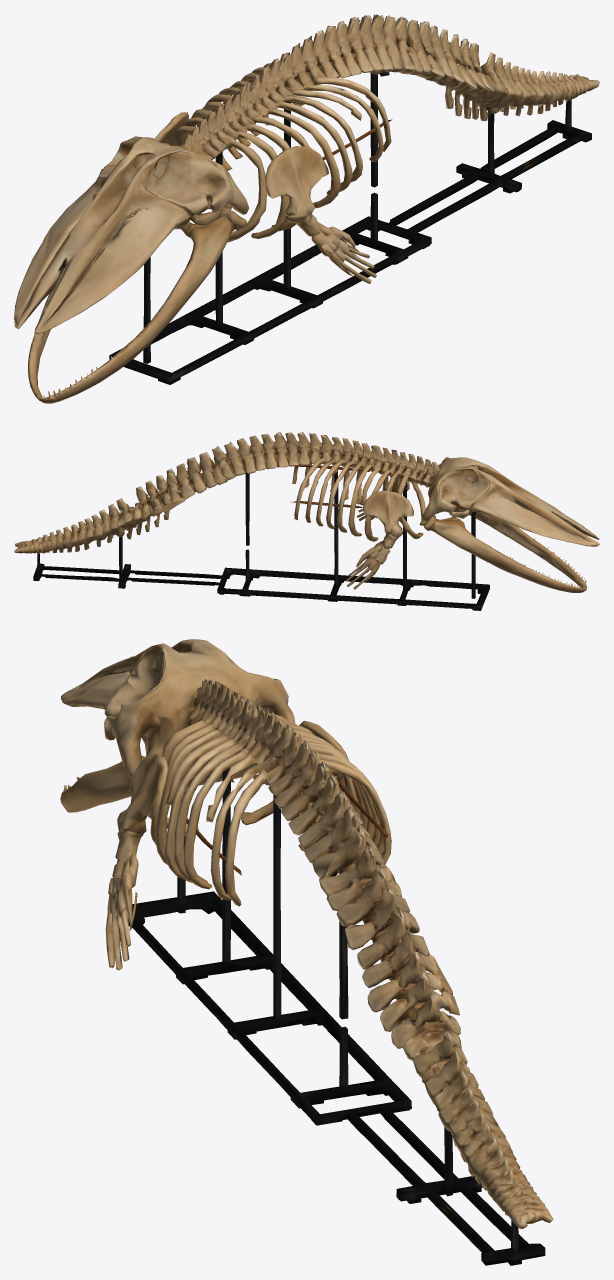
Rendered from blue_whale_skeleton.glb.
3 views of the same model, one above another, from view 1: azimuth 30°, elevation 25°; view 2: azimuth 150°, elevation 25°; view 3: azimuth 270°, elevation 25° (orthographic). The views are drawn at different scales.
Visible parts, largest first — view 1: tripo_node_f5262c0b-ebf0-4009-ae64-d6ef81080bcd; view 2: tripo_node_f5262c0b-ebf0-4009-ae64-d6ef81080bcd; view 3: tripo_node_f5262c0b-ebf0-4009-ae64-d6ef81080bcd.
Boxes of the visible parts, box(x1,y1,x2,y2) form: tripo_node_f5262c0b-ebf0-4009-ae64-d6ef81080bcd: box(14, 14, 599, 403); tripo_node_f5262c0b-ebf0-4009-ae64-d6ef81080bcd: box(14, 432, 599, 610); tripo_node_f5262c0b-ebf0-4009-ae64-d6ef81080bcd: box(60, 639, 553, 1265).
Bounding box in the file's own units: 0.9822 × 0.3121 × 0.4389.
1 material, 1 textured.
